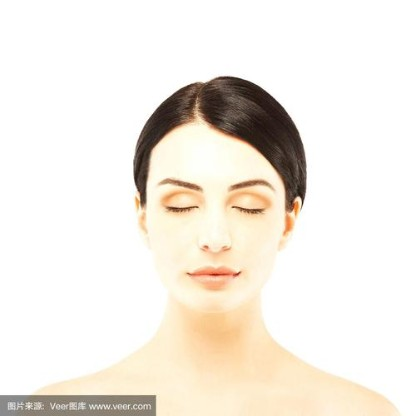闭眼: (227, 193, 274, 223), (160, 191, 206, 220)
